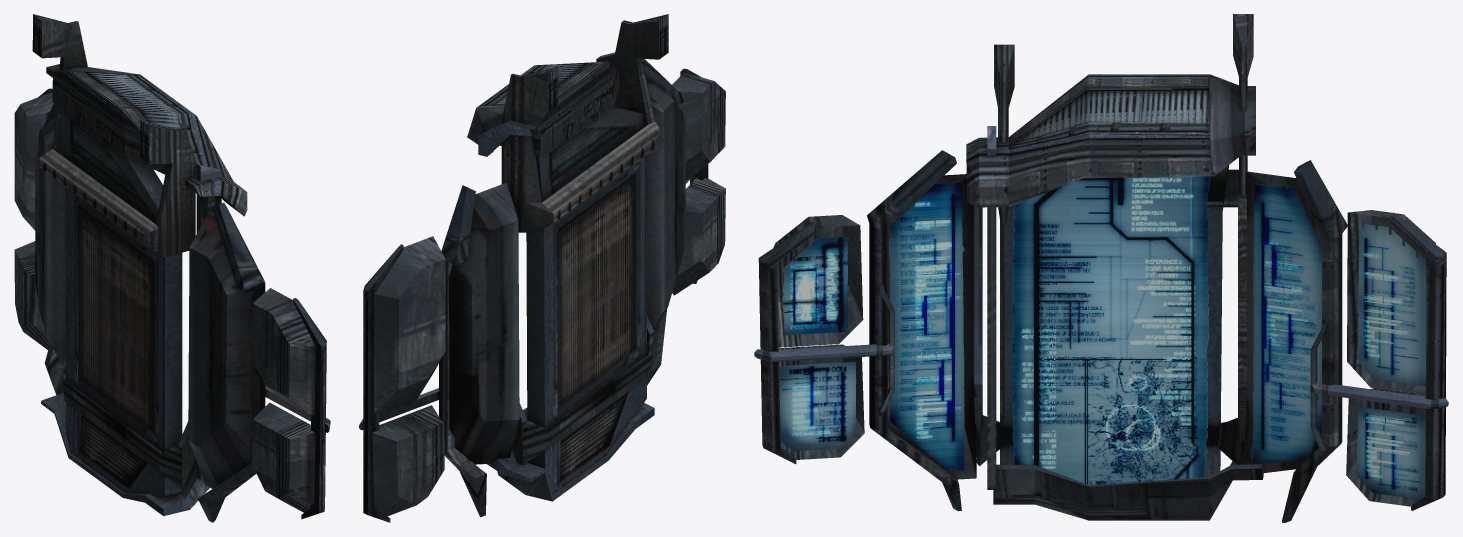
The model's file is monitor02.fbx.
3 views of the same model, side by side, from view 1: azimuth 30°, elevation 25°; view 2: azimuth 150°, elevation 25°; view 3: azimuth 270°, elevation 25° (orthographic). The views are drawn at different scales.
Visible parts, largest first — view 1: Body.combine_intmonitor001_reference.smd.mesh_0; view 2: Body.combine_intmonitor001_reference.smd.mesh_0; view 3: Body.combine_intmonitor001_reference.smd.mesh_1, Body.combine_intmonitor001_reference.smd.mesh_0.
Part boxes in pixels (x1,y1,x2,y2): Body.combine_intmonitor001_reference.smd.mesh_0: [14, 14, 330, 522]; Body.combine_intmonitor001_reference.smd.mesh_0: [359, 14, 725, 522]; Body.combine_intmonitor001_reference.smd.mesh_1: [779, 176, 1426, 499]; Body.combine_intmonitor001_reference.smd.mesh_0: [754, 14, 1448, 522].
Size of the model in its own units: 15.34 by 62.93 by 81.93.
Materials: 2 (2 with a texture image).
